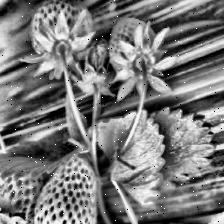Gray Mold: (73, 33, 115, 99)
